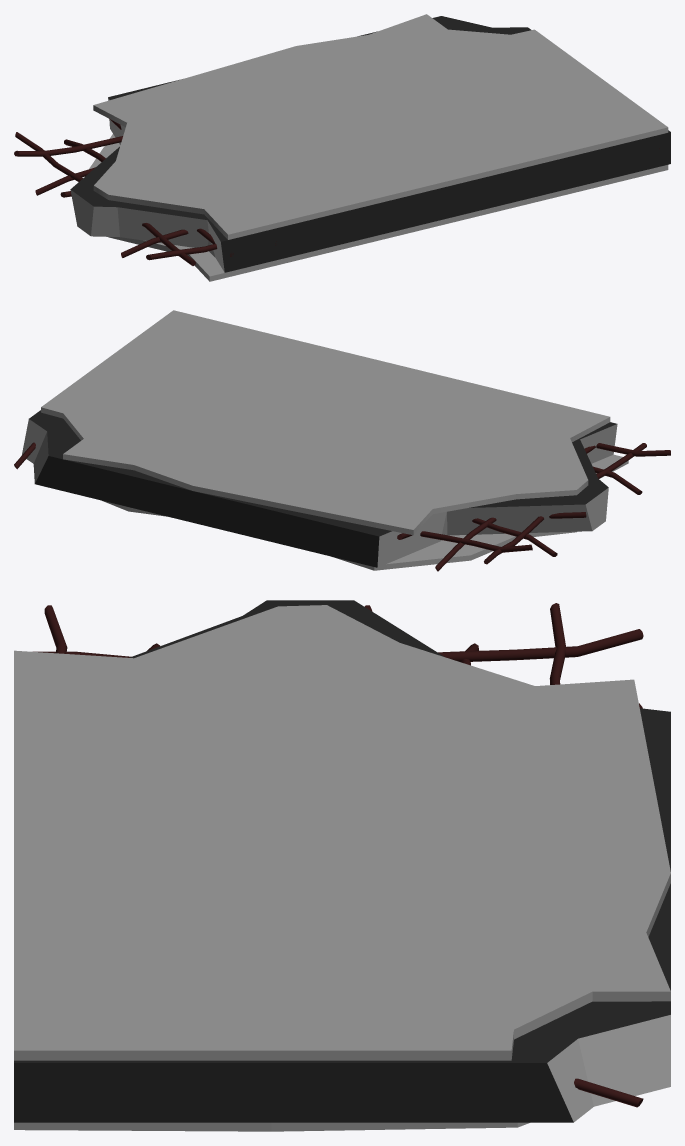
The model's file is P_MurCasséPlaco1.fbx.
The picture shows the model from 3 angles, top to bottom: view 1: azimuth 30°, elevation 25°; view 2: azimuth 150°, elevation 25°; view 3: azimuth 270°, elevation 25°; orthographic projection. The views are drawn at different scales.
Visible parts, largest first — view 1: P_MurCasséPlaco1; view 2: P_MurCasséPlaco1; view 3: P_MurCasséPlaco1.
Part boxes in pixels (left/top/right/bottom): P_MurCasséPlaco1: left=14, top=14, right=670, bottom=281; P_MurCasséPlaco1: left=14, top=310, right=670, bottom=571; P_MurCasséPlaco1: left=14, top=600, right=670, bottom=1131.
Size of the model in its own units: 505 by 39.99 by 300.
